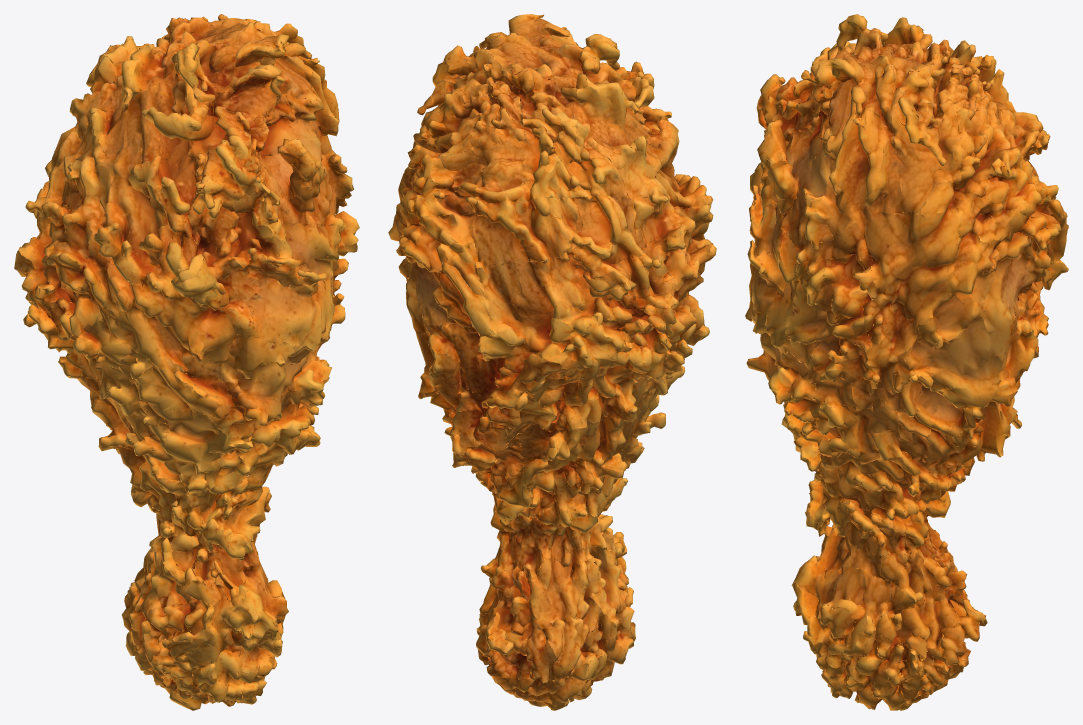
The model's file is new_fried_chicken.glb.
The picture shows the model from 3 angles, left to right: view 1: azimuth 30°, elevation 25°; view 2: azimuth 150°, elevation 25°; view 3: azimuth 270°, elevation 25°; orthographic projection. The views are drawn at different scales.
Parts seen in each view (by area): view 1: Mesh_0; view 2: Mesh_0; view 3: Mesh_0.
Part boxes in pixels (left/top/right/bottom): Mesh_0: left=14, top=14, right=359, bottom=710; Mesh_0: left=388, top=14, right=716, bottom=710; Mesh_0: left=745, top=14, right=1068, bottom=710.
Bounding box in the file's own units: 0.925 × 2.08 × 0.9058.
1 material, 1 textured.
